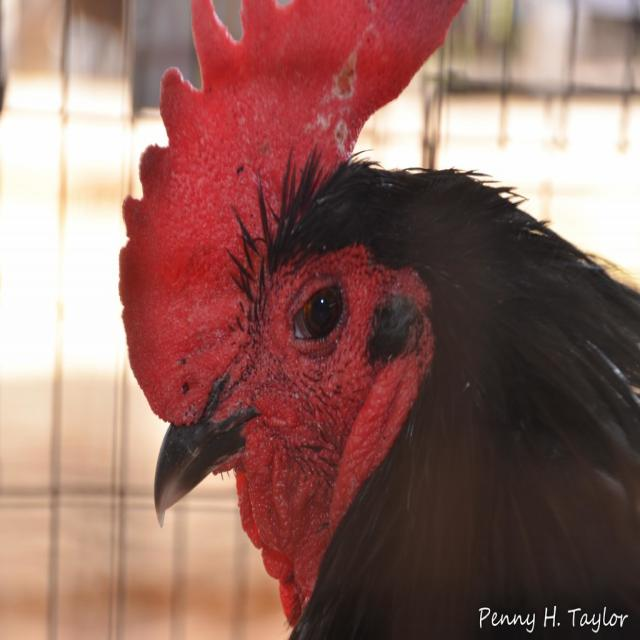Chicken: (118, 0, 640, 640)
